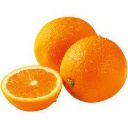orange: (60, 35, 128, 103)
